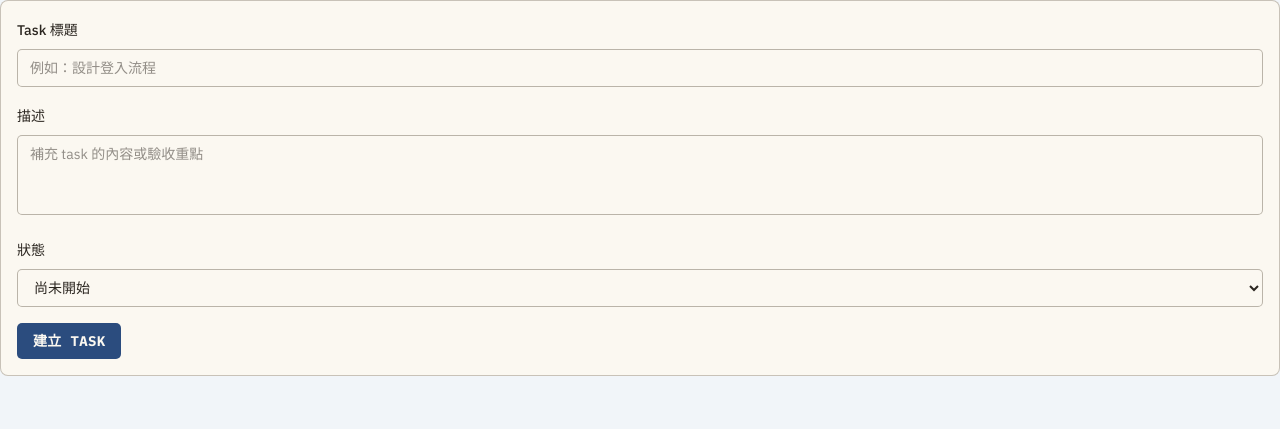
TaskForm › shows an error when the task title is empty
The image size is (1280, 429).
Click the button "建立 task" at (69, 341), box [17, 323, 122, 359]
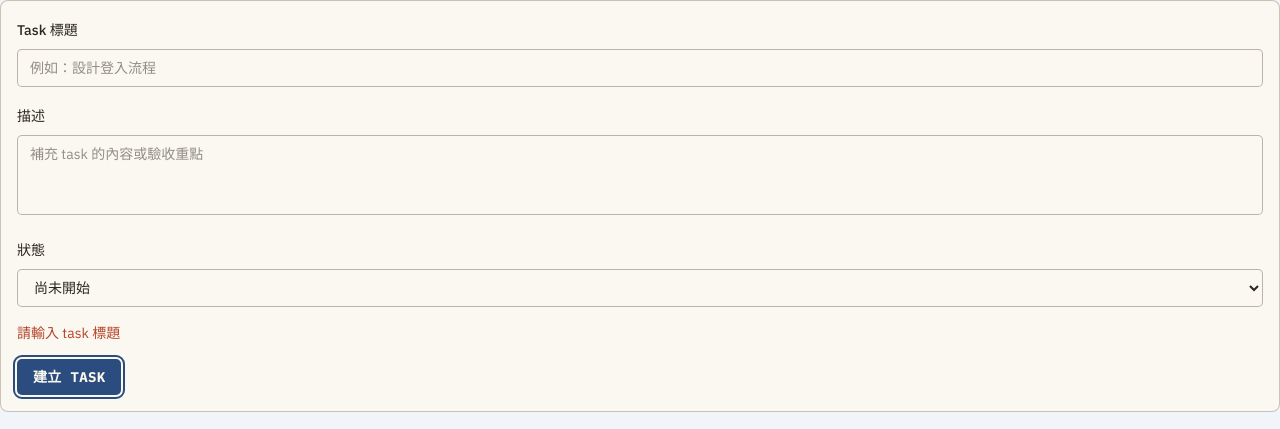
Result: the text "請輸入 task 標題" is shown at [17, 324, 120, 342]
